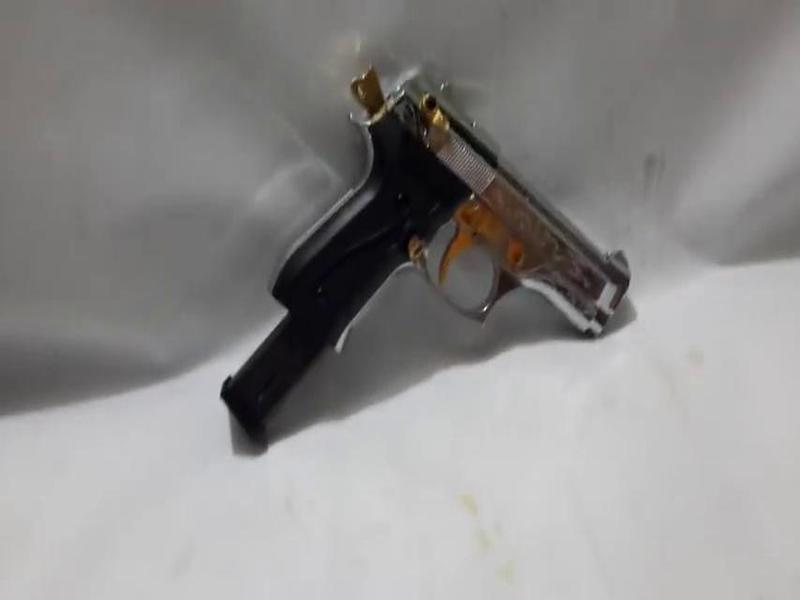Pistola: (257, 58, 637, 360)
